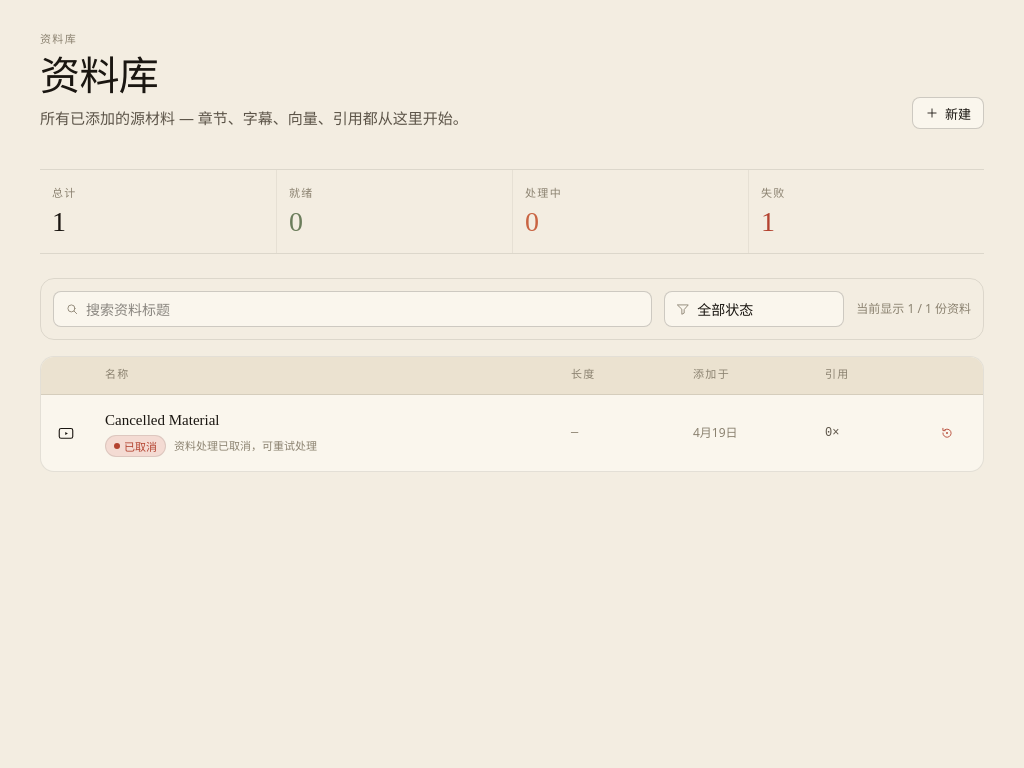
/sources page › renders cancelled materials consistently in the list and drawer
The image size is (1024, 768).
Expected: the text "已取消" is shown, [105, 435, 166, 457]
Click the text "Cancelled Material". click: click(162, 420)
box: [105, 412, 220, 428]
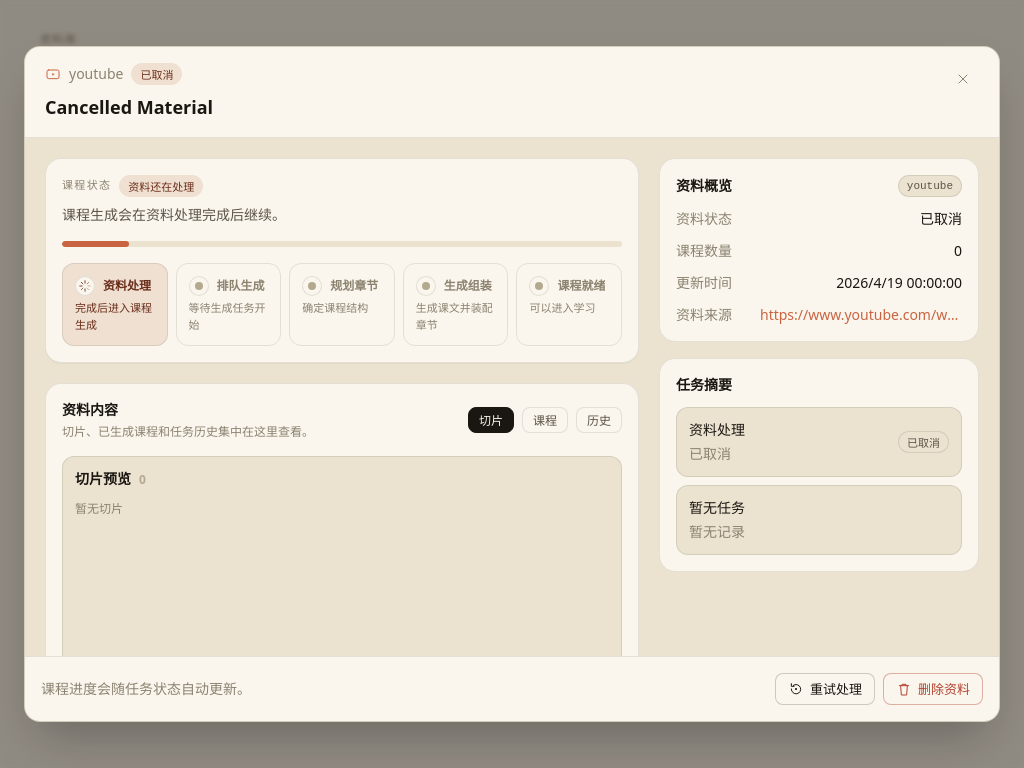
Expected: the text "资料处理已取消，可重试处理" is shown, [174, 438, 317, 454]
Expected: the button "重试处理" is shown, [775, 673, 875, 705]
Expected: the button "历史" is shown, [576, 407, 622, 433]
